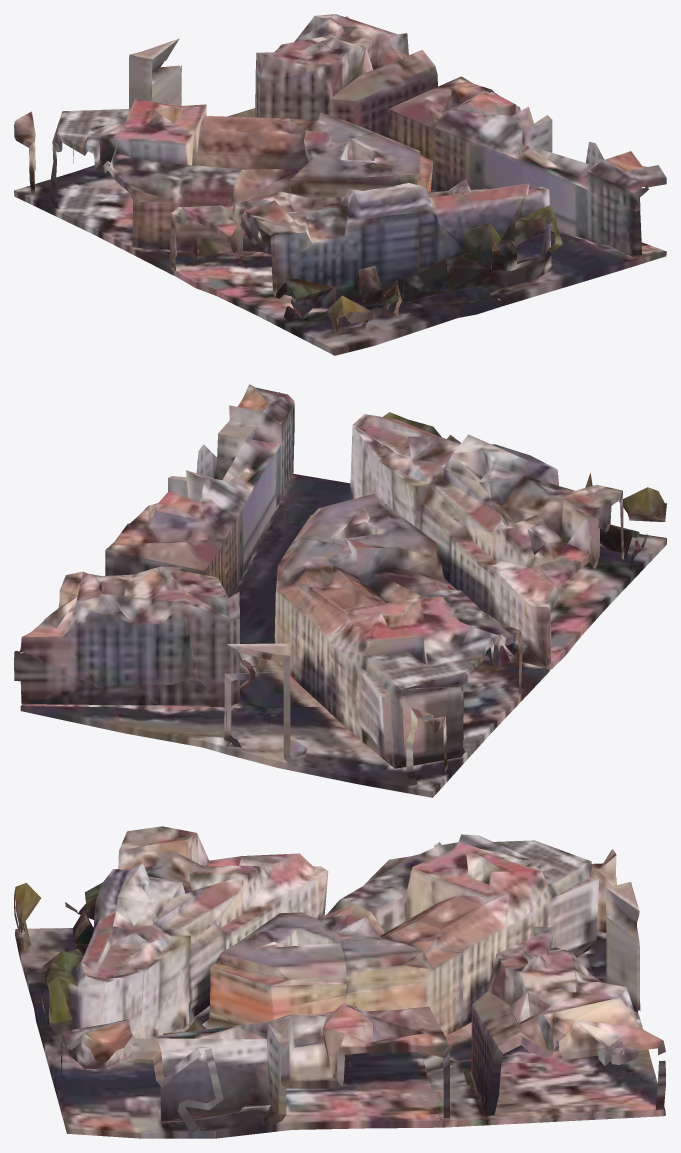
The picture shows the model from 3 angles, top to bottom: view 1: azimuth 30°, elevation 25°; view 2: azimuth 150°, elevation 25°; view 3: azimuth 270°, elevation 25°; orthographic projection. The views are drawn at different scales.
Visible parts, largest first — view 1: Mesh_0; view 2: Mesh_0; view 3: Mesh_0.
Part boxes in pixels (x1,y1,x2,y2): Mesh_0: (14,14,666,355); Mesh_0: (14,384,666,797); Mesh_0: (14,826,665,1138).
Size of the model in its own units: 133 by 40.99 by 165.
1 material, 1 textured.
